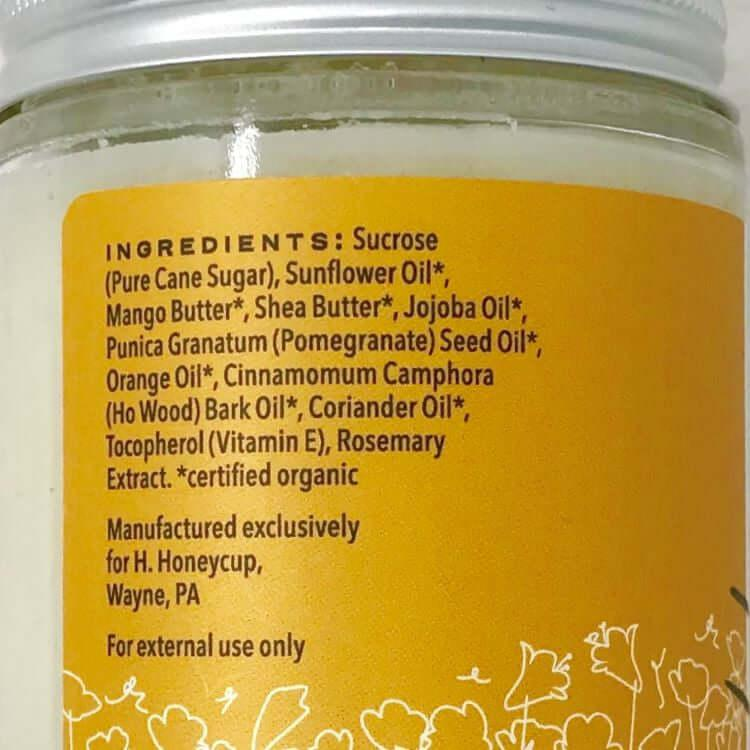ingredients: (86, 219, 568, 499)
